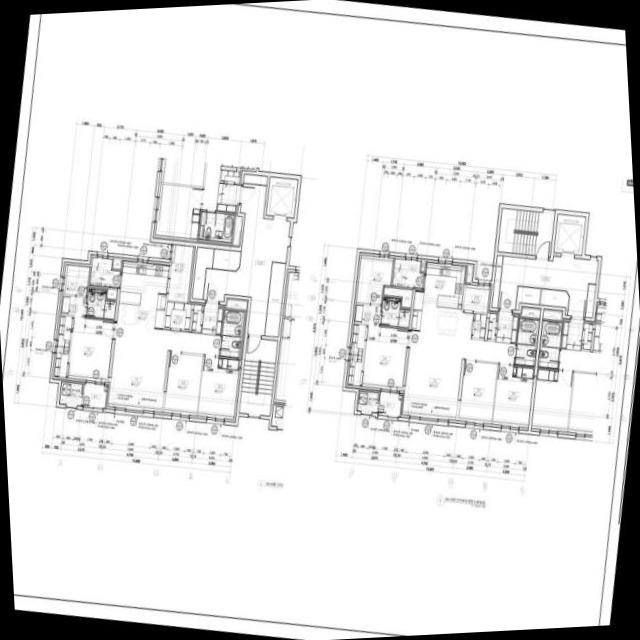background: (0, 0, 640, 640)
space_balconi: (82, 384, 107, 409), (378, 392, 402, 417)
space_bedroom: (68, 317, 114, 383), (362, 326, 408, 390), (198, 355, 240, 419), (164, 351, 203, 415), (493, 365, 534, 425), (459, 361, 497, 424)
space_dressroom: (348, 304, 382, 386), (54, 316, 74, 378), (61, 295, 87, 317)
space_elevator_hall: (203, 177, 298, 336), (498, 214, 598, 317)
space_front: (488, 311, 519, 344), (202, 306, 224, 335)
space_kitchen: (412, 263, 473, 336), (117, 261, 169, 329)
space_living_room: (403, 331, 516, 420), (108, 324, 221, 412)
space_multipurpose_space: (392, 259, 424, 289), (90, 258, 120, 288)
space_other: (357, 255, 393, 304), (265, 263, 286, 337), (168, 245, 194, 302), (193, 247, 214, 299), (63, 265, 90, 296), (165, 302, 192, 330), (540, 289, 569, 315), (463, 285, 490, 312), (213, 249, 241, 271), (516, 287, 541, 310), (492, 256, 503, 308), (384, 288, 412, 308), (471, 313, 487, 341), (585, 284, 596, 318), (192, 305, 205, 332), (244, 175, 268, 185), (520, 309, 541, 319), (227, 301, 247, 310), (107, 289, 117, 300), (466, 266, 472, 283), (113, 259, 122, 270)
space_outdoor_room: (60, 383, 82, 406), (357, 391, 378, 413)
space_staircase: (239, 338, 278, 417), (498, 209, 555, 257)
space_toilet: (515, 318, 539, 367), (220, 310, 244, 358), (86, 289, 117, 320), (381, 298, 410, 328)
